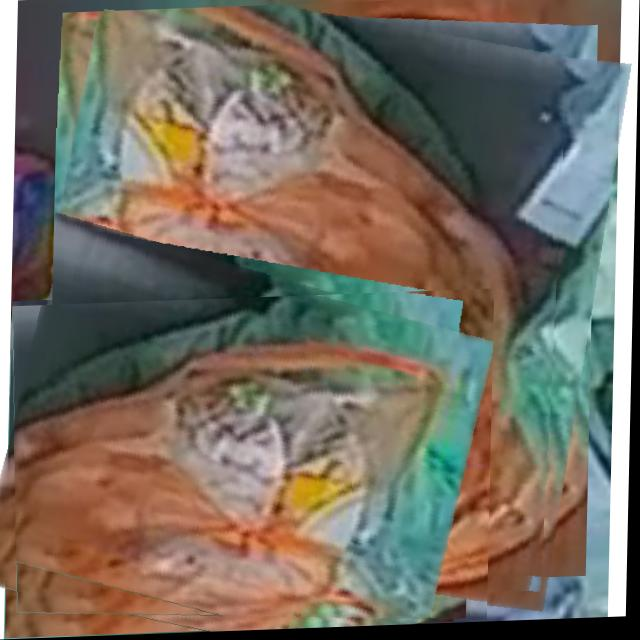other_trashbag: (53, 9, 550, 591), (15, 298, 494, 624)
